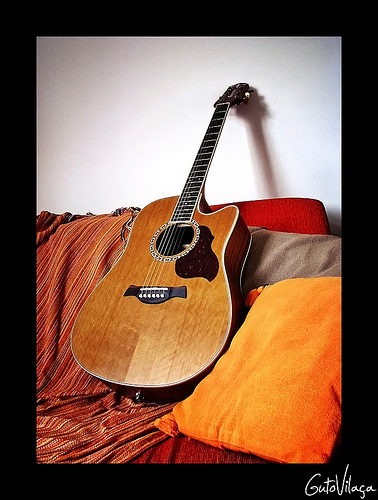guitar: (68, 82, 254, 392)
